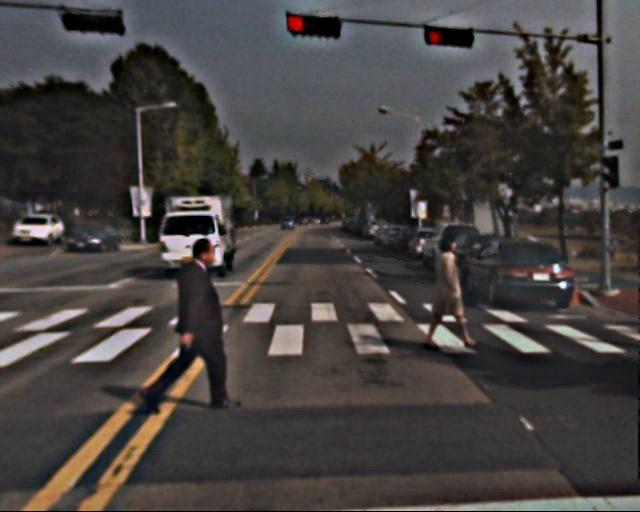person: (153, 237, 225, 412), (426, 236, 472, 349)
